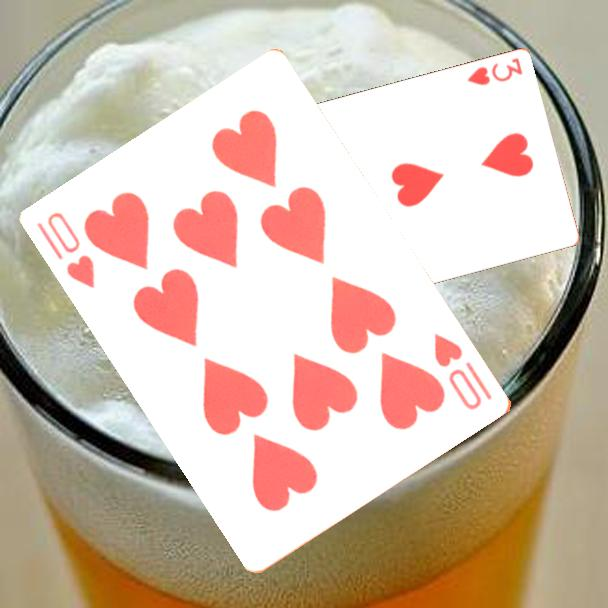h03: (463, 55, 525, 89)
h10: (430, 329, 496, 413), (33, 208, 99, 292)
